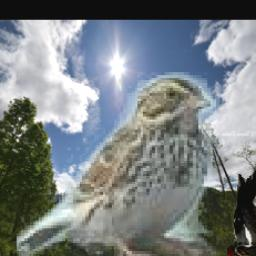Sparrow: (16, 72, 218, 256)
Woodpecker: (227, 150, 256, 256)
